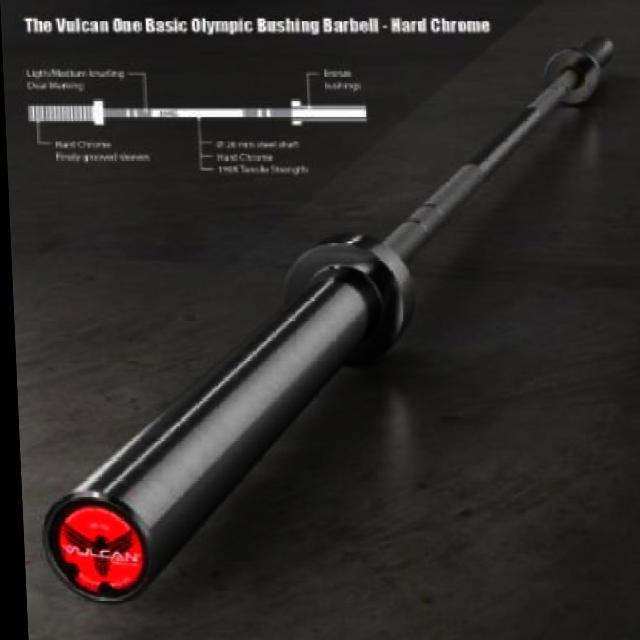barbell: (20, 232, 431, 619)
